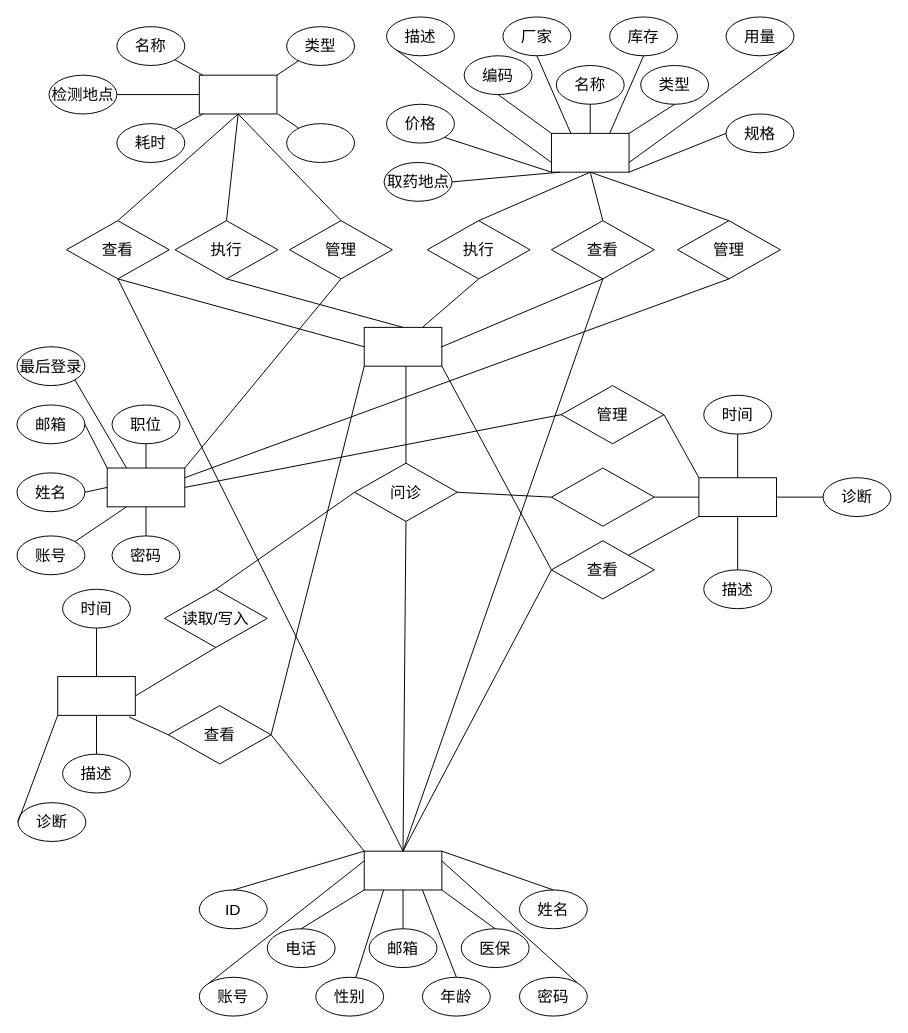
Image size: 908x1033. Some labels were removed from this diagram. The shapes that lost their labels are listed below. From the top down, each one's centre as x and y in pixels, then its label:
At pixel 237 94: "检测".
At pixel 320 142: "费用".
At pixel 589 152: "药品".
At pixel 402 346: "医生".
At pixel 145 487: "管理员".
At pixel 602 496: "写入".
At pixel 737 497: "病例单".
At pixel 96 695: "历史病例".
At pixel 402 870: "病人".
